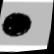correct: (0, 6, 35, 41)
